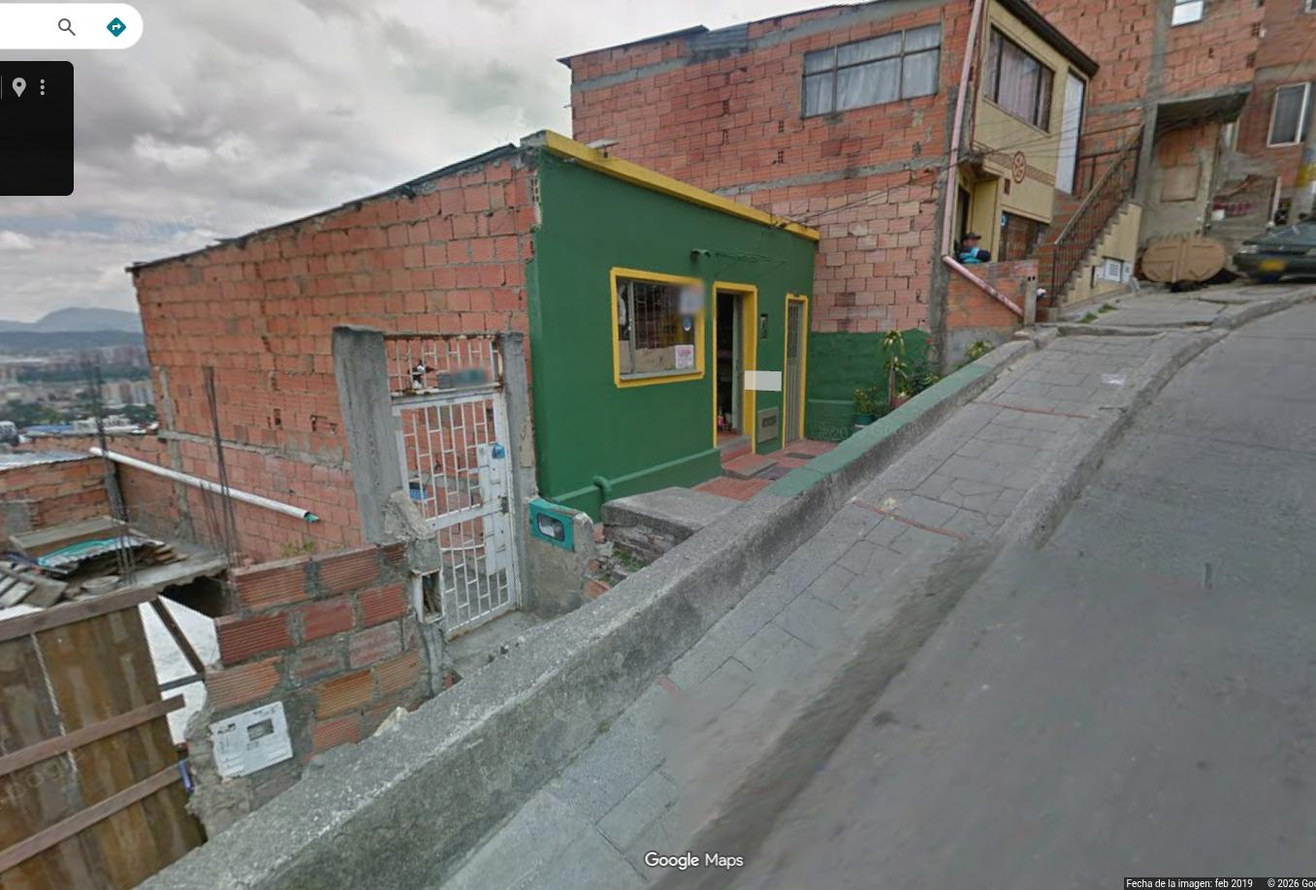casa: (560, 0, 1099, 356), (528, 148, 815, 519)
